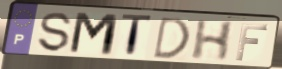D: (151, 15, 192, 61)
F: (234, 22, 271, 63)
H: (189, 19, 237, 62)
M: (66, 11, 121, 59)
S: (37, 11, 74, 54)
T: (119, 13, 154, 60)
